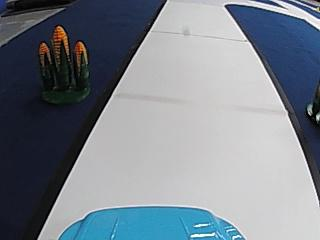corn: (34, 20, 92, 103)
